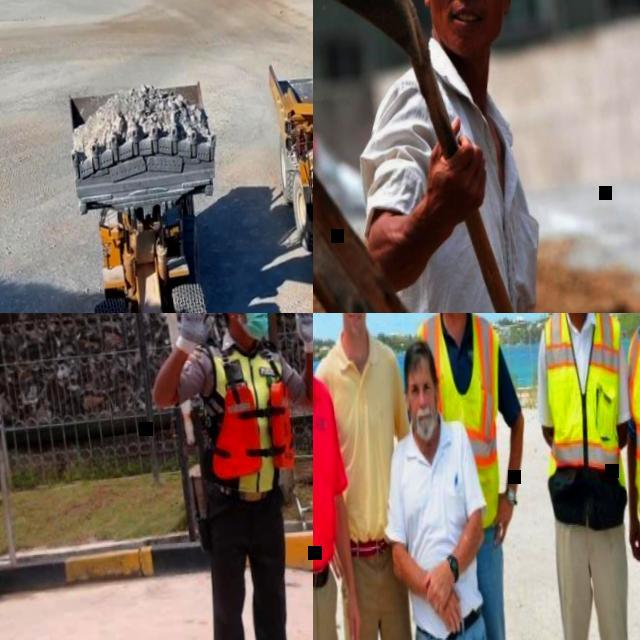Robbery: (144, 307, 317, 640), (366, 0, 546, 304), (419, 307, 530, 640), (533, 301, 638, 640), (386, 347, 492, 640), (310, 308, 398, 640), (304, 373, 353, 640), (615, 318, 640, 579)
